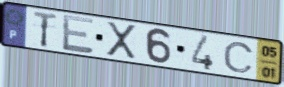4: (189, 34, 215, 72)
6: (144, 27, 173, 66)
C: (222, 41, 256, 74)
E: (61, 13, 95, 55)
T: (32, 9, 59, 49)
X: (105, 20, 138, 61)
